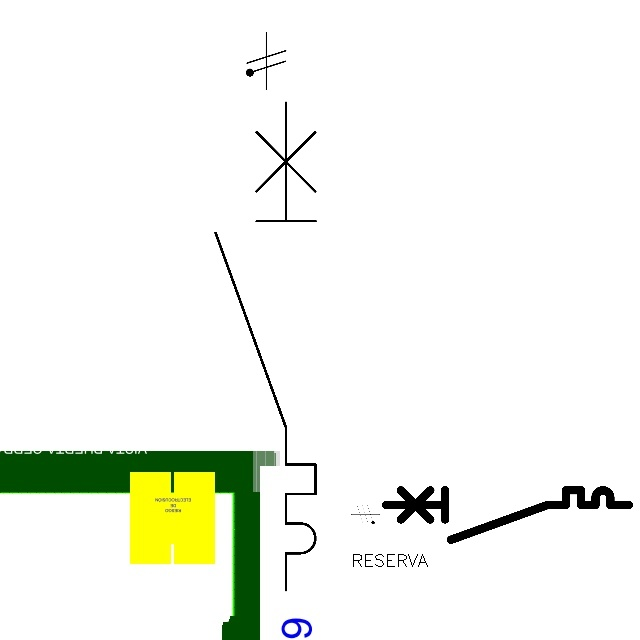interruptor_termomagnetico: (203, 90, 328, 603), (379, 484, 635, 546)
